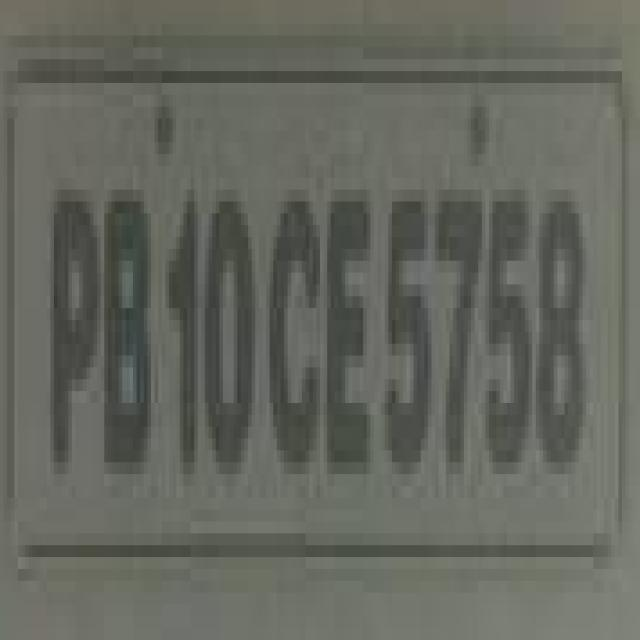license_plate: (0, 47, 608, 569)
